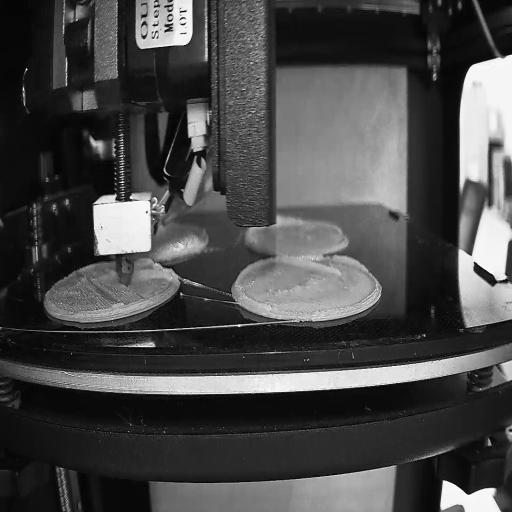over_extrusion: (282, 255, 368, 279), (234, 257, 279, 302), (278, 214, 304, 230), (134, 259, 156, 269)
